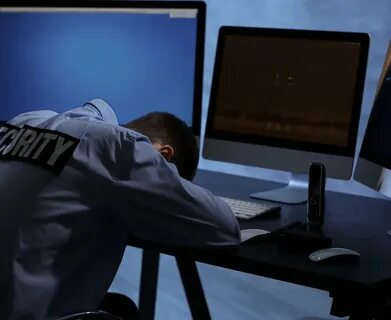sleep: (1, 110, 241, 320)
